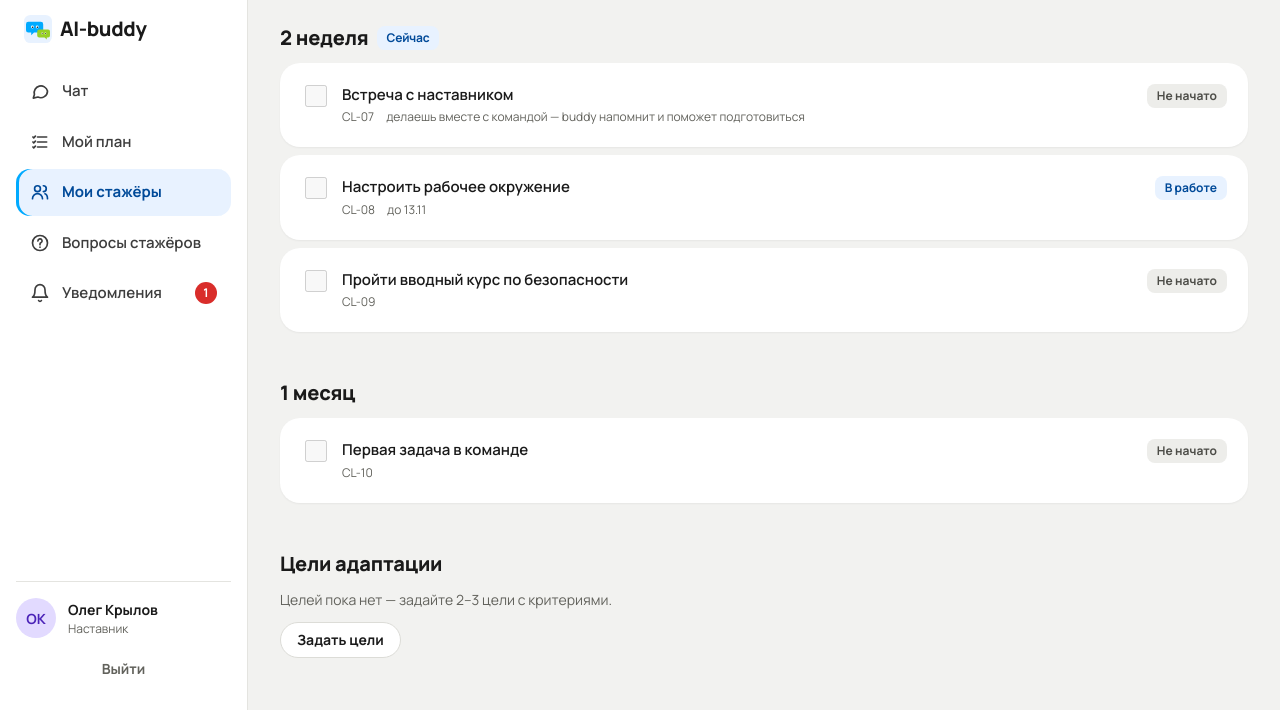
mentor and lead views › S1_R20: the mentor sets goals with criteria and the intern sees them
The width and height of the screenshot is (1280, 710).
(page scrolled)
Click the button "Задать цели".
click(340, 640)  # box [280, 622, 401, 658]
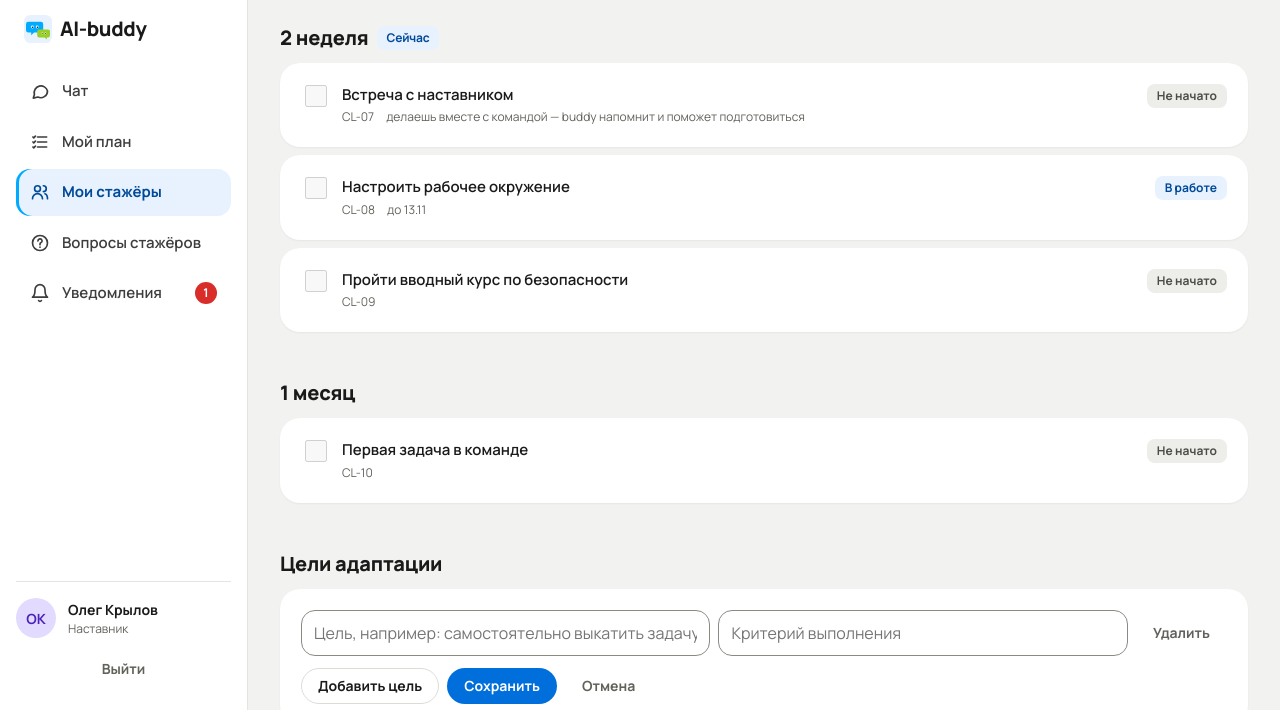
Type "Выкатить первую задачу" into the field named "Цель 1".
click(506, 633); type("Выкатить первую задачу")  # box [301, 610, 710, 656]
Type "Задача в проде" into the field named "Критерий 1".
click(923, 633); type("Задача в проде")  # box [718, 610, 1128, 656]
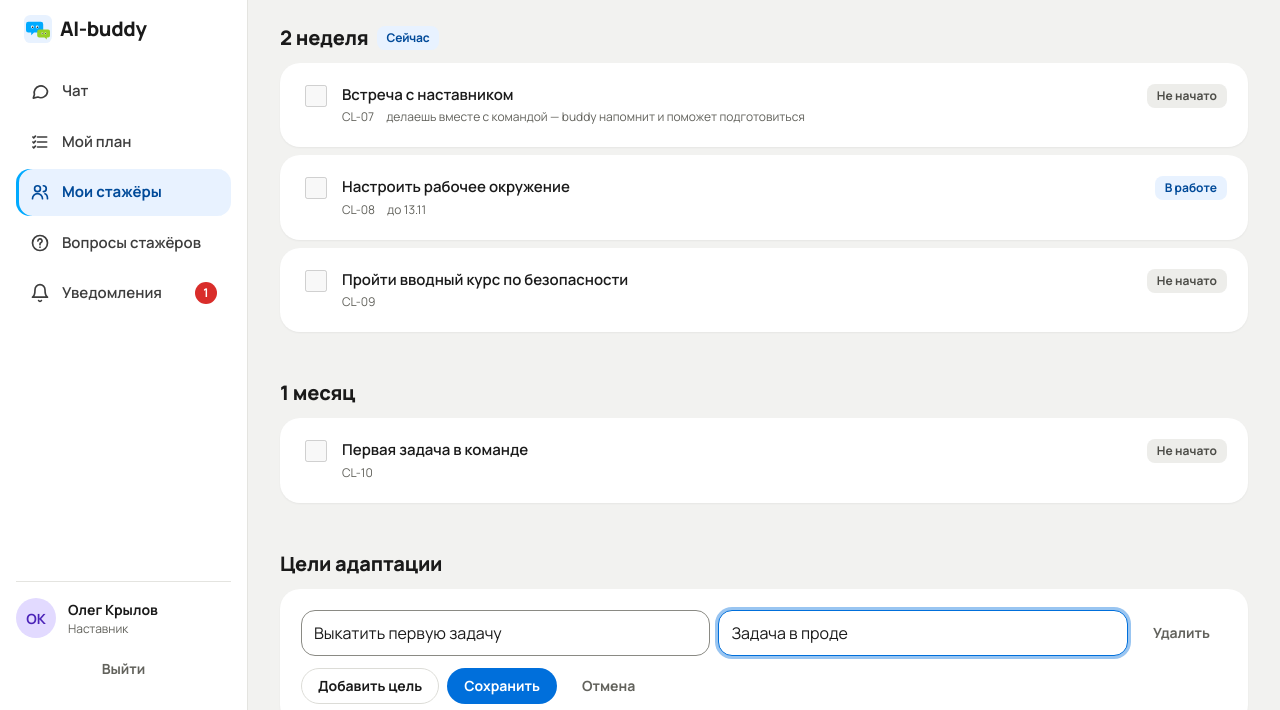
Click the button "Добавить цель".
click(370, 686)  # box [301, 668, 439, 704]
(page scrolled)
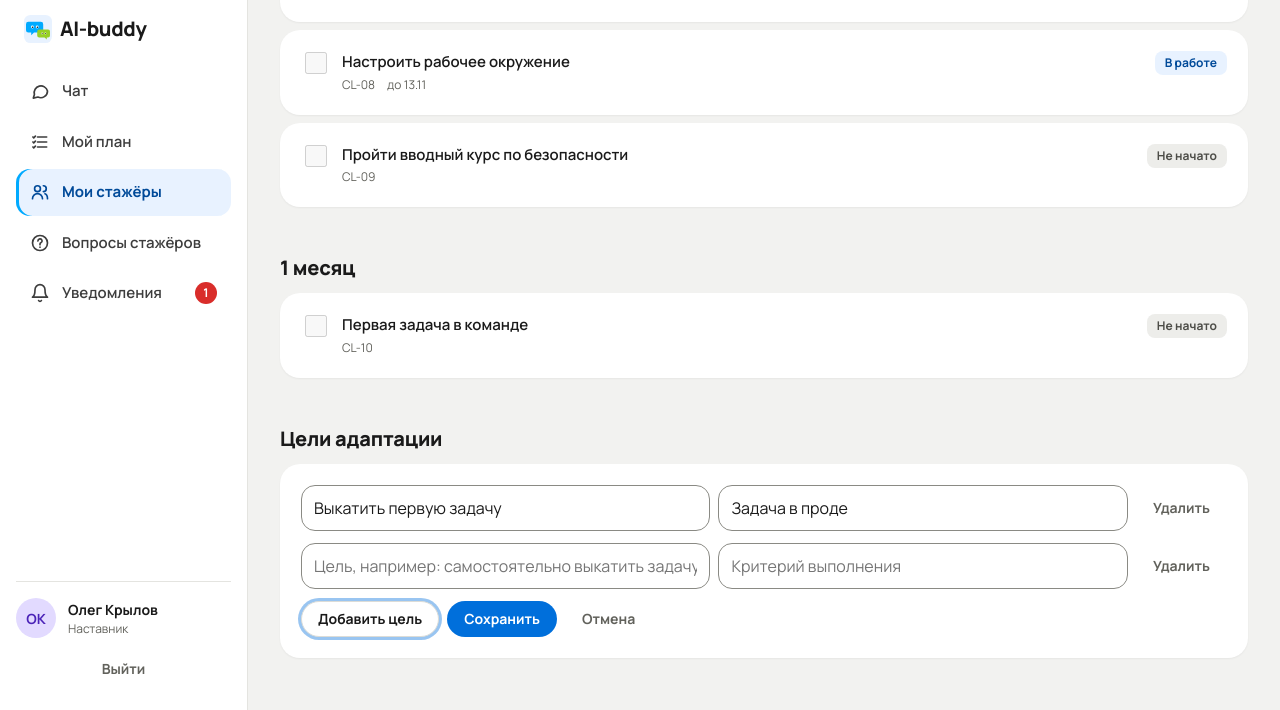
Type "Выступить на демо" into the field named "Цель 2".
click(506, 566); type("Выступить на демо")  # box [301, 543, 710, 589]
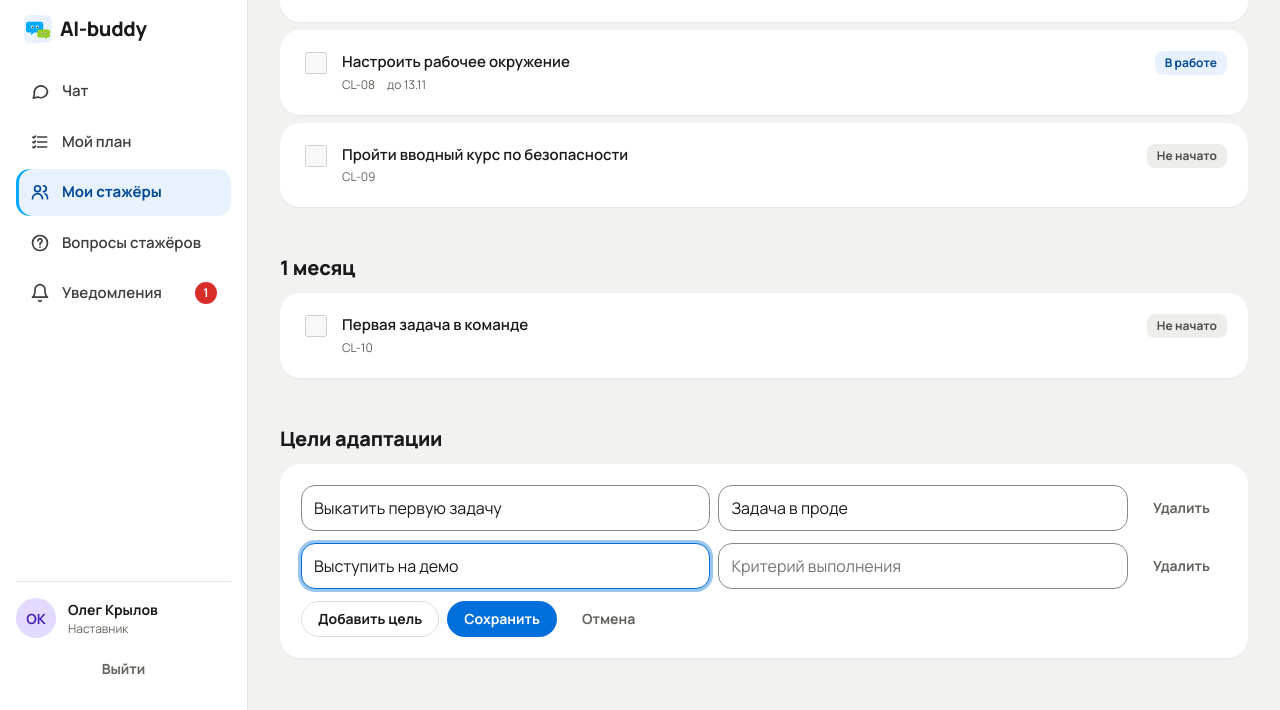
Click the 1st button "Удалить".
click(1181, 508)  # box [1136, 490, 1227, 526]
(page scrolled)
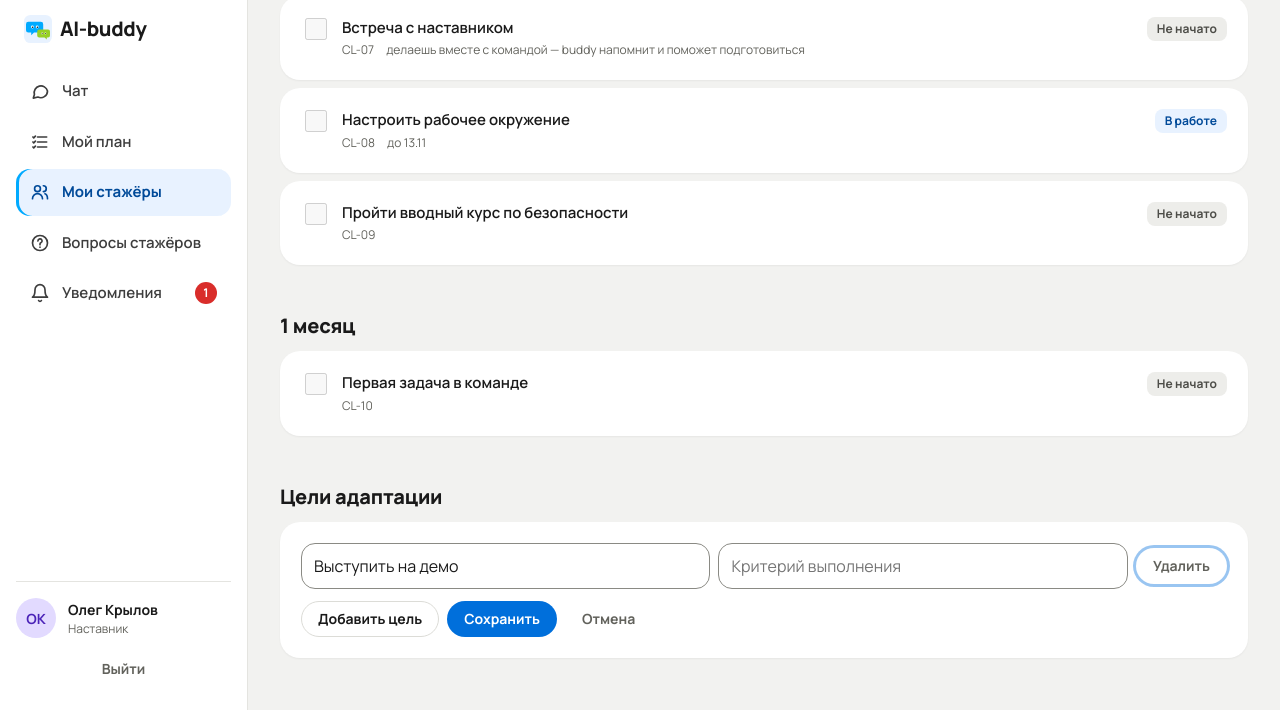
Click the button "Сохранить".
click(502, 619)  # box [447, 601, 557, 637]
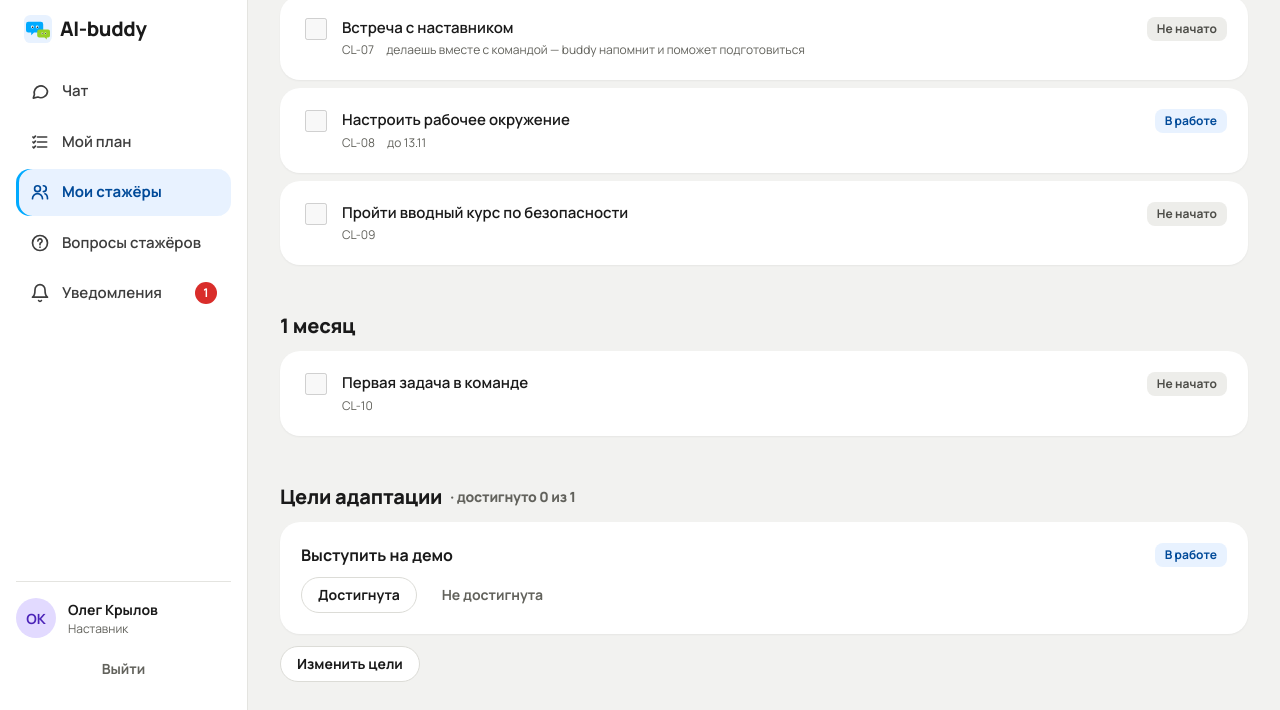
Result: the text "Выступить на демо" is shown at [301, 543, 453, 567]
